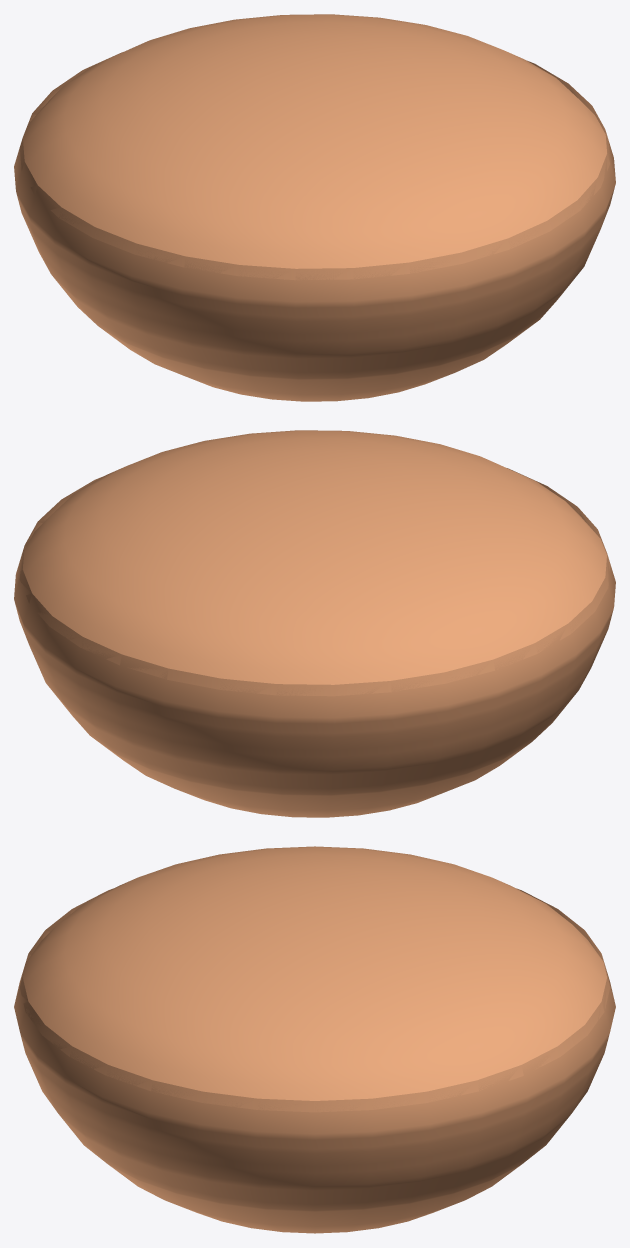
The model's file is dough.glb.
3 views of the same model, one above another, from view 1: azimuth 30°, elevation 25°; view 2: azimuth 150°, elevation 25°; view 3: azimuth 270°, elevation 25° (orthographic).
Visible parts, largest first — view 1: Dough.002; view 2: Dough.002; view 3: Dough.002.
Boxes of the visible parts, x1,y1,x2,y2 form: Dough.002: (14,14,615,401); Dough.002: (14,430,615,817); Dough.002: (14,846,615,1233).
Bounding box in the file's own units: 1.08 × 0.5716 × 1.08.
